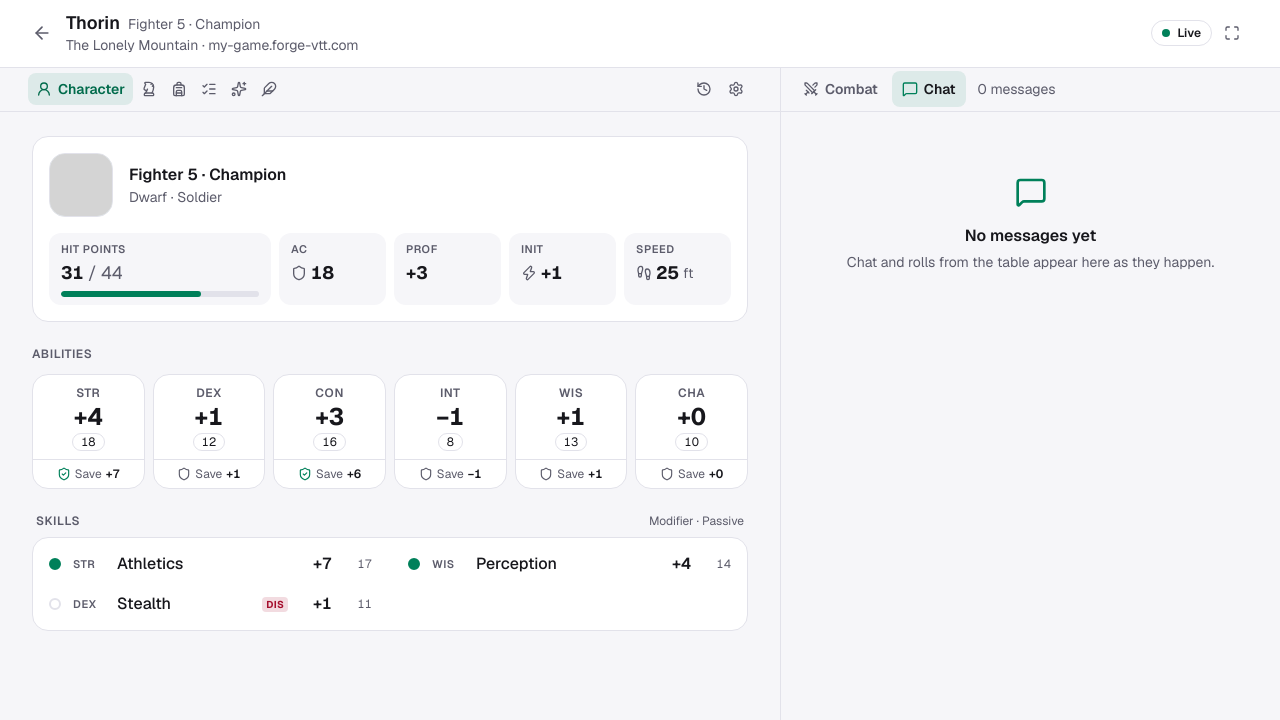
Test: components/game-table, the party list where there’s no sheet (PR #44’s review) › lists the parties once, under the sheet’s Inventory or why there’s none, never both
What coordinates should you click on to do the following:
click the tab named "Inventory"
I would click on:
 (179, 89)
Its box is [165,73,193,105].
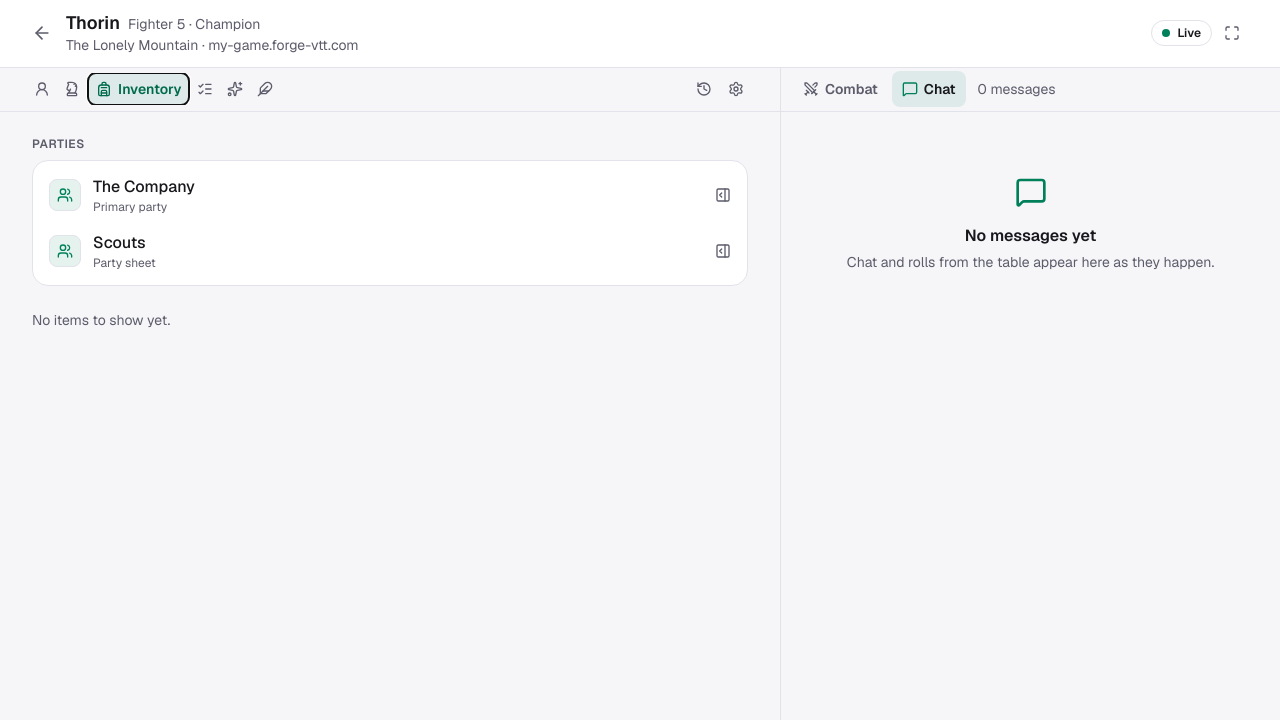
Now the number of elements "Parties" is 1, box [32,136,748,286]
Now the number of headings with id "inventory-parties" is 1, box [32,136,85,152]
